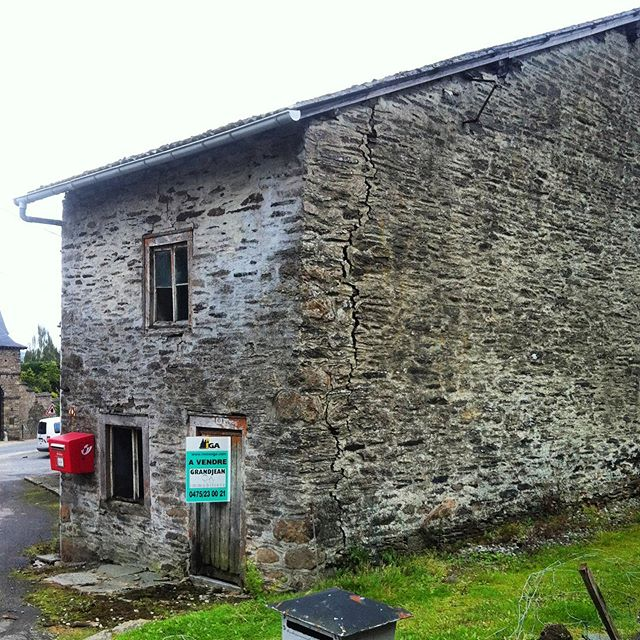building: (53, 1, 640, 585)
sign: (179, 435, 235, 505)
